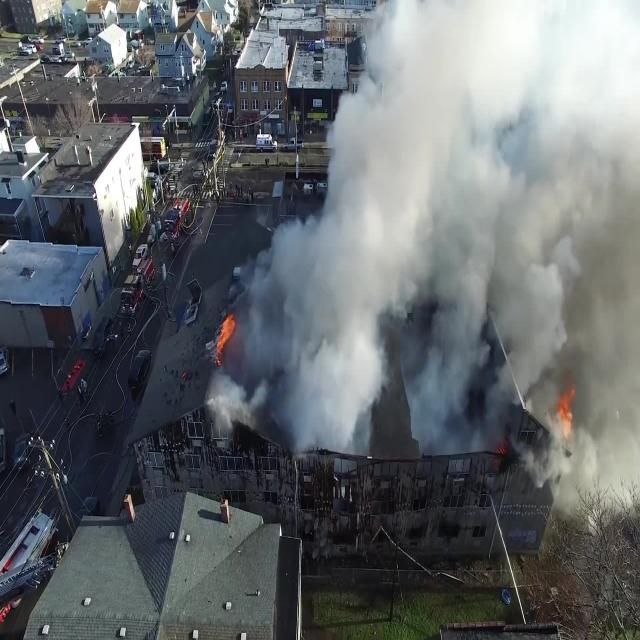smoke: (367, 4, 639, 515), (245, 224, 364, 459), (326, 94, 365, 219), (211, 369, 242, 443)
